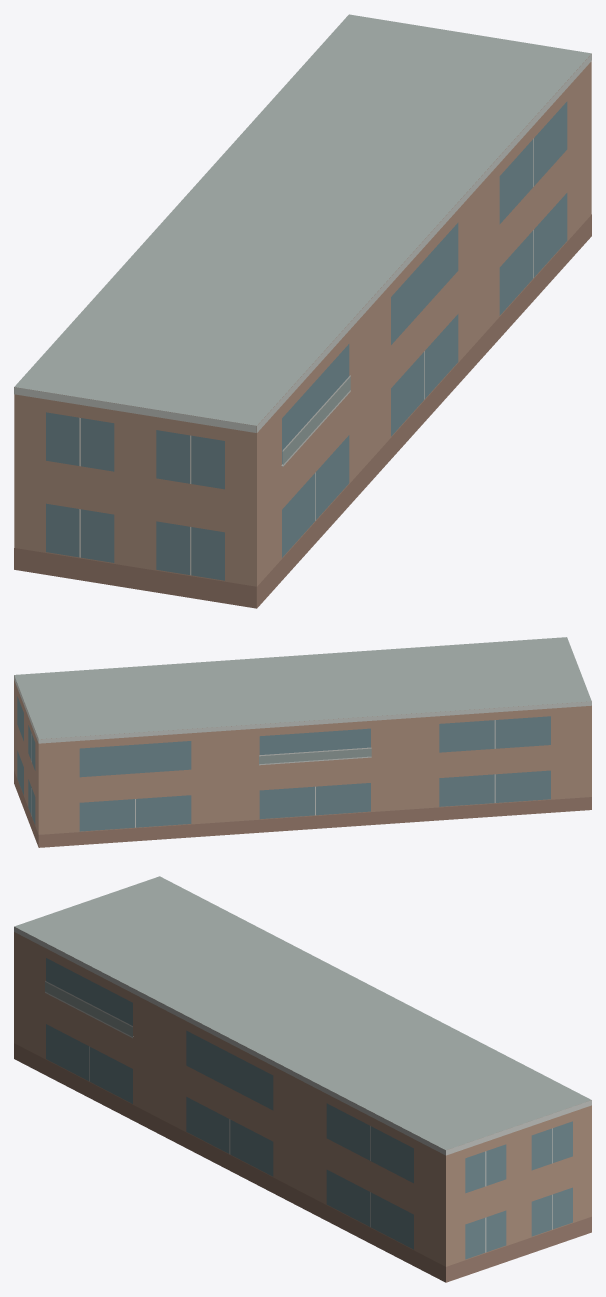
Rendered from survey-upis-33037357.glb.
The picture shows the model from 3 angles, top to bottom: view 1: azimuth 30°, elevation 25°; view 2: azimuth 150°, elevation 25°; view 3: azimuth 270°, elevation 25°; orthographic projection. The views are drawn at different scales.
Parts seen in each view (by area): view 1: survey-upis-33037357.tmp; view 2: survey-upis-33037357.tmp; view 3: survey-upis-33037357.tmp.
Part boxes in pixels (<box>): survey-upis-33037357.tmp: <box>14,14,591,608</box>; survey-upis-33037357.tmp: <box>14,637,591,847</box>; survey-upis-33037357.tmp: <box>14,876,591,1282</box>.
Size of the model in its own units: 27.09 by 6.1 by 24.14.
